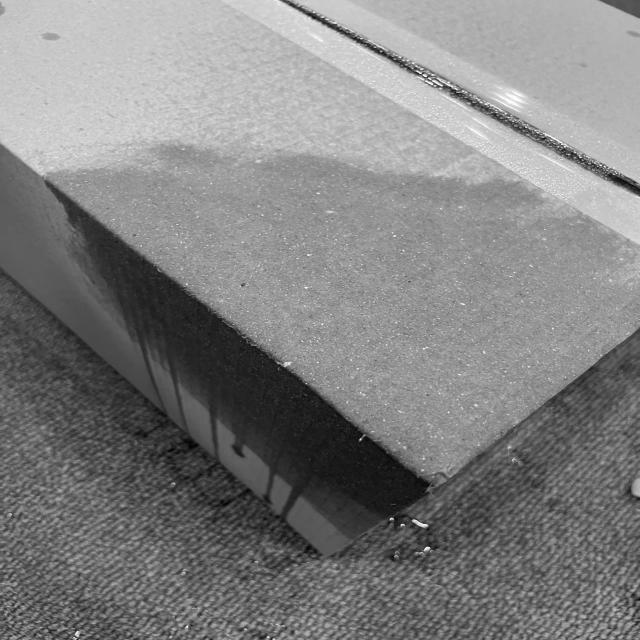wet: (44, 136, 630, 538)
